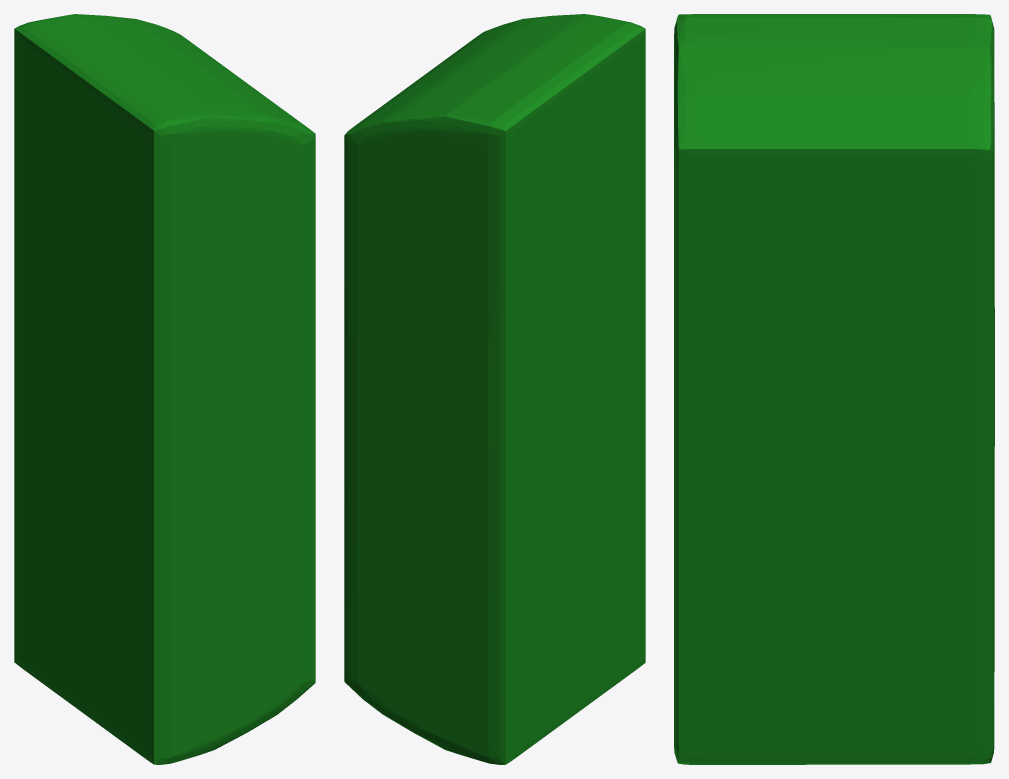
Rendered from right_forearm_1_part_8.obj.
3 renders of one model, left to right at view 1: azimuth 30°, elevation 25°; view 2: azimuth 150°, elevation 25°; view 3: azimuth 270°, elevation 25°, orthographic. The views are drawn at different scales.
Bounding box in the file's own units: 36.22 × 137 × 55.71.
